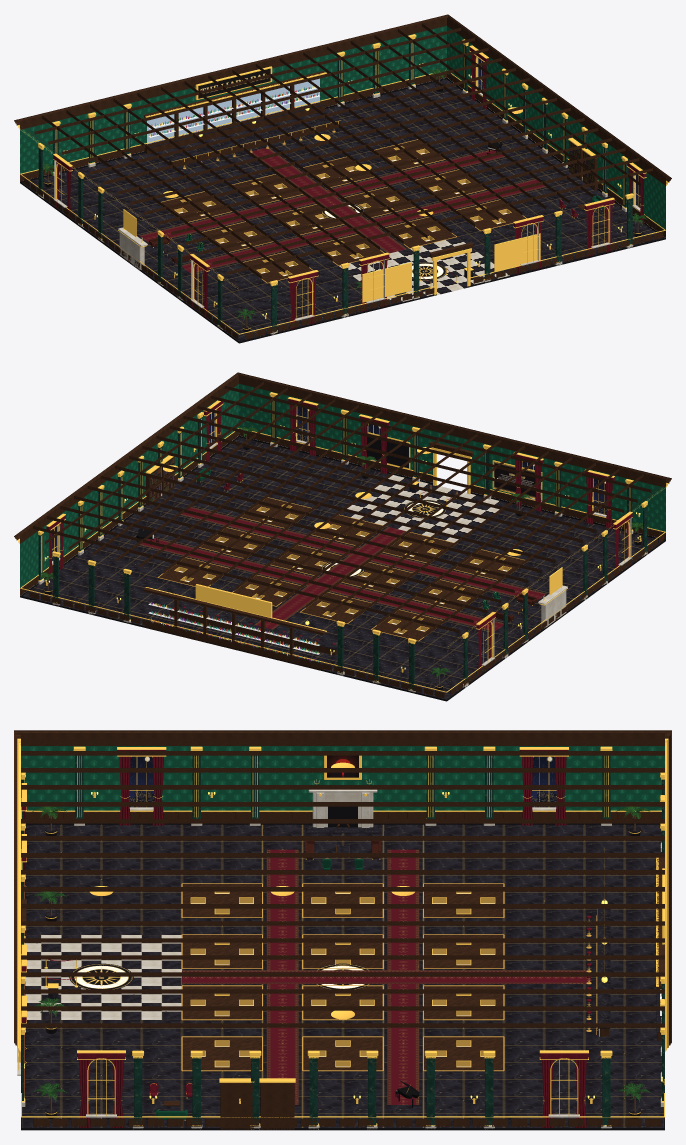
File: lb4_lounge.glb
The picture shows the model from 3 angles, top to bottom: view 1: azimuth 30°, elevation 25°; view 2: azimuth 150°, elevation 25°; view 3: azimuth 270°, elevation 25°; orthographic projection. The views are drawn at different scales.
Visible parts, largest first — view 1: lb4_lounge; view 2: lb4_lounge; view 3: lb4_lounge.
Part boxes in pixels (x1,y1,x2,y2): lb4_lounge: (14, 14, 671, 343); lb4_lounge: (14, 372, 671, 701); lb4_lounge: (14, 730, 671, 1130).
Bounding box in the file's own units: 73.24 × 10.6 × 65.4.
44 materials, 23 textured.
